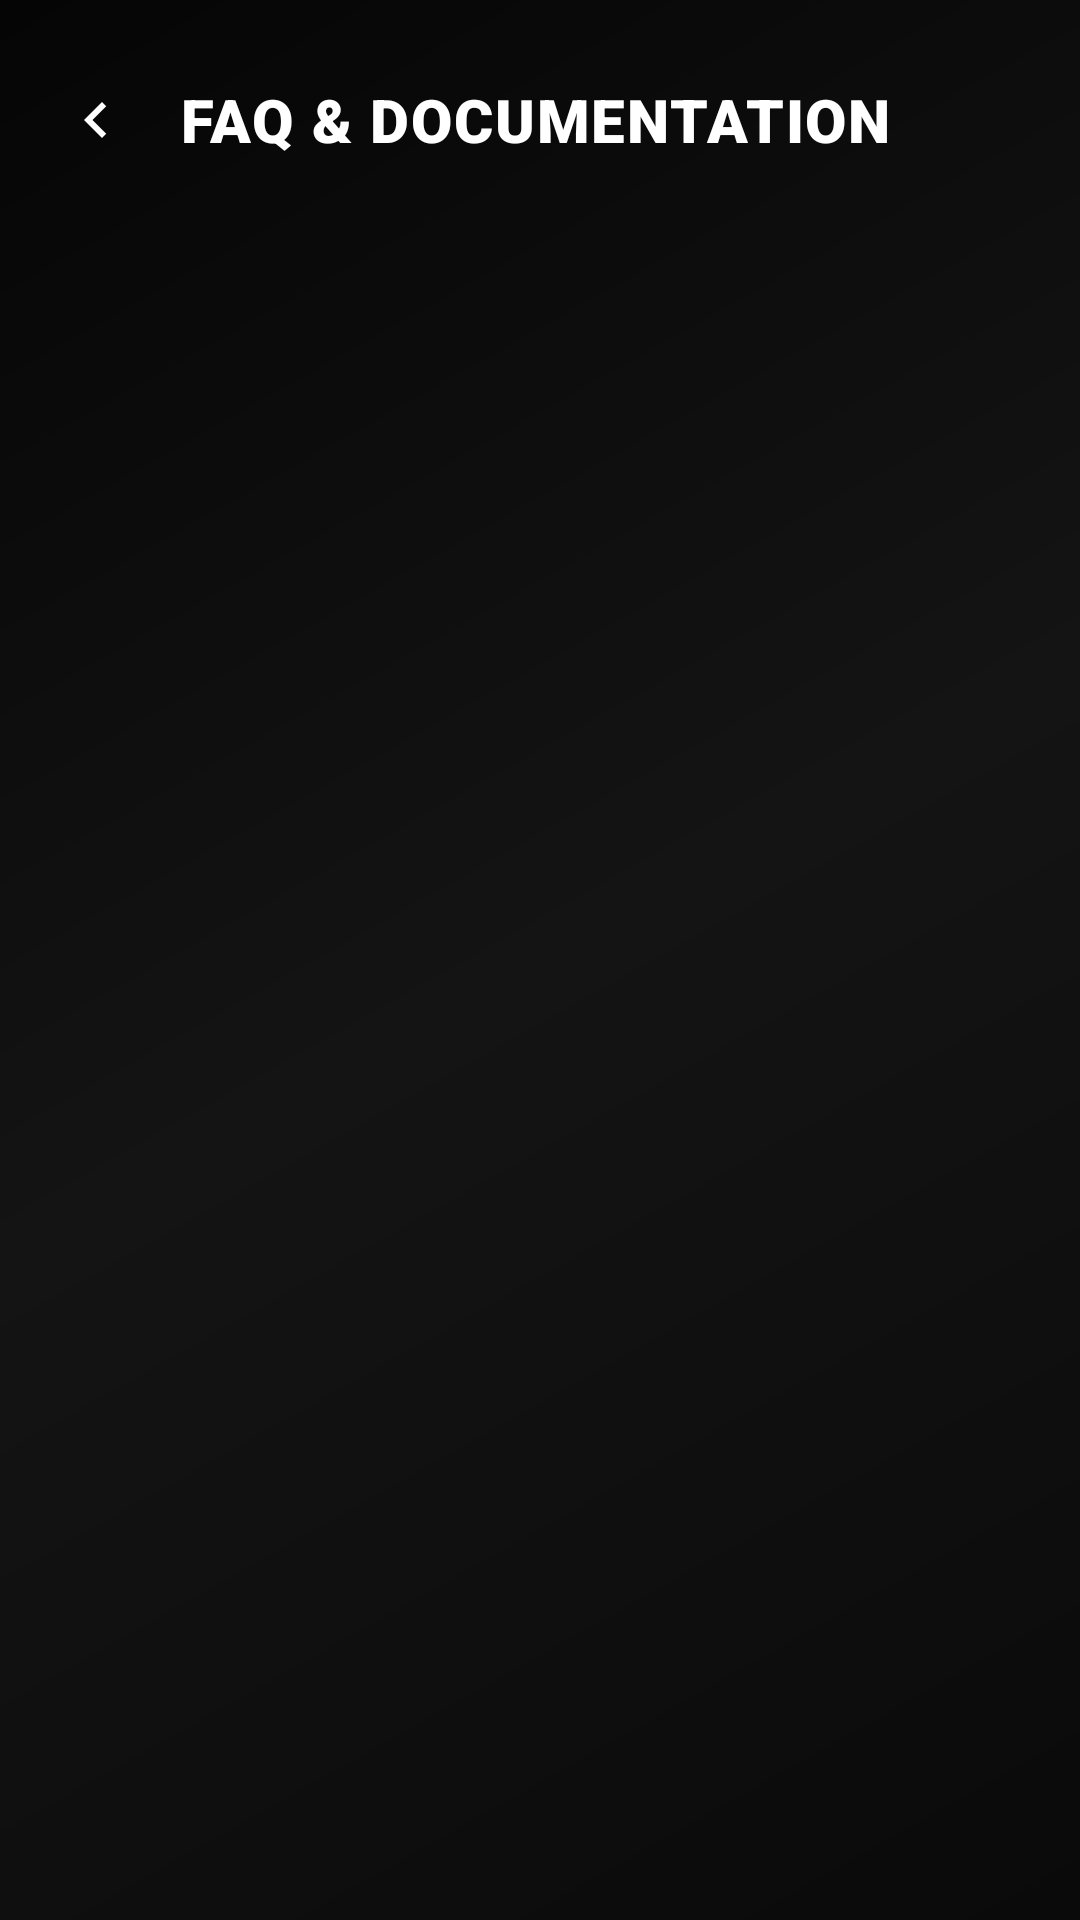

Icons on this 1080 × 1920 Android screen, each with the point to tap as (x=x, y=y):
Back: (x=95, y=120)
